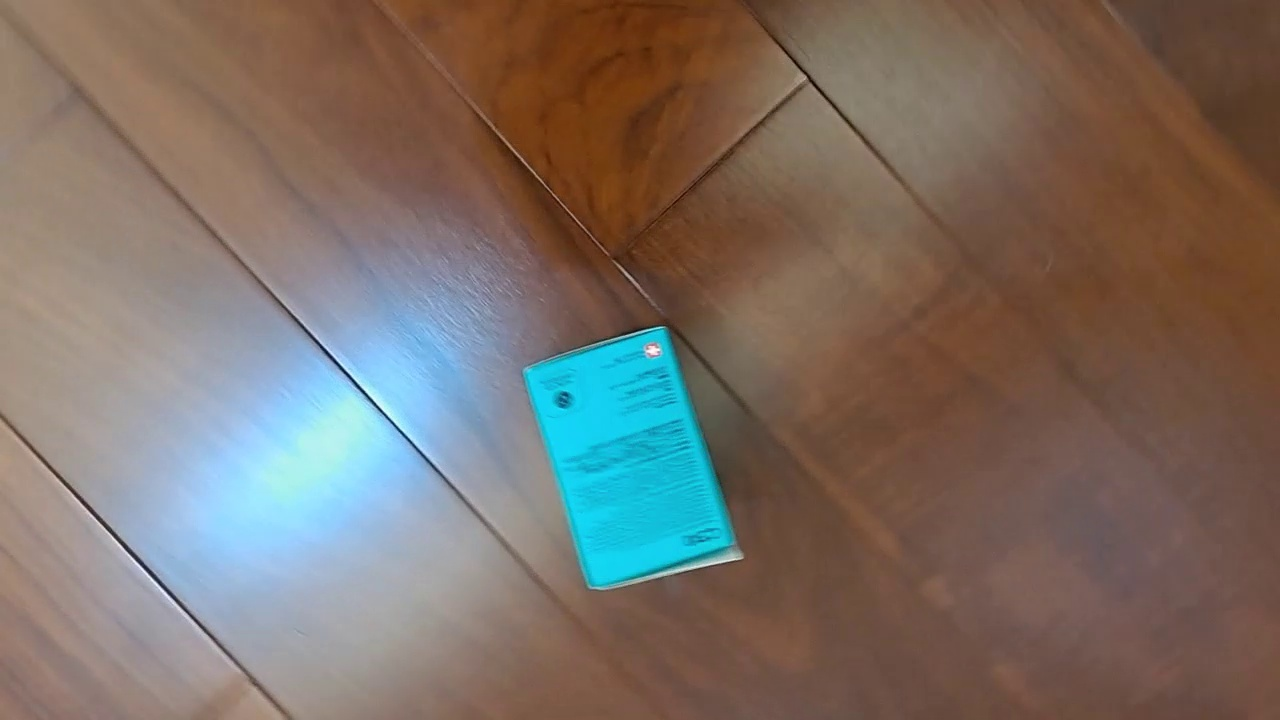webcam: (520, 324, 746, 592)
